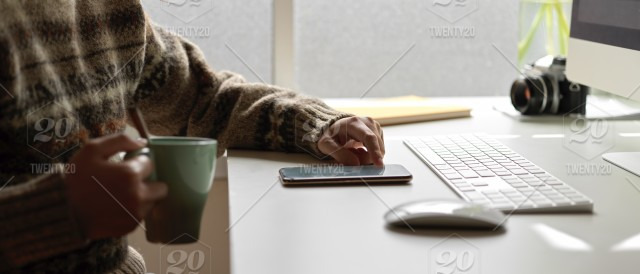Cell Phone: (276, 162, 415, 188)
